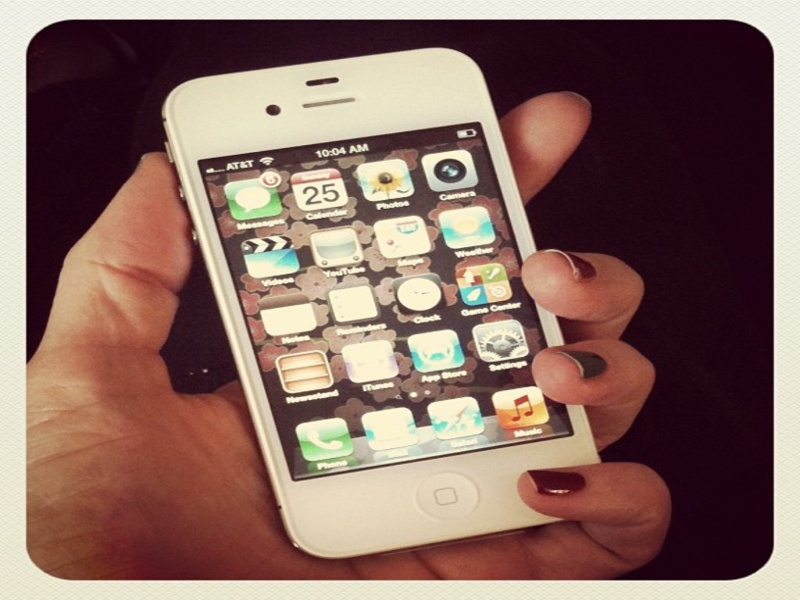cellphone: (154, 43, 610, 564)
